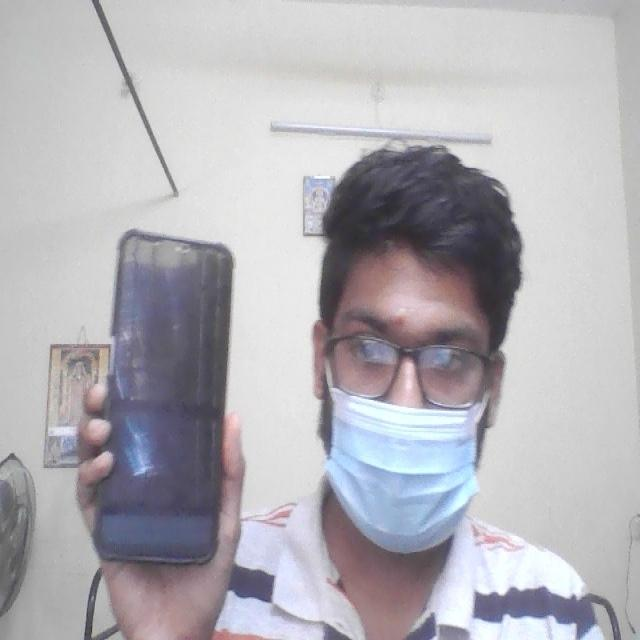Mobile: (80, 218, 249, 583)
